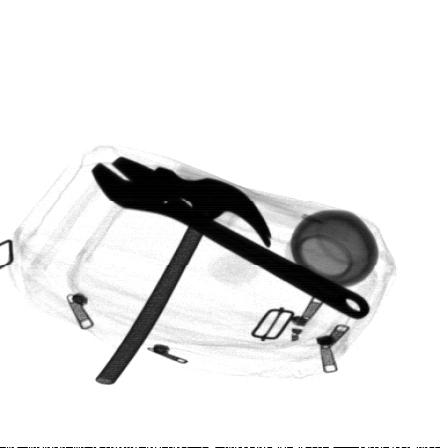Hammer: (95, 166, 276, 387)
Wrench: (89, 155, 371, 318)
